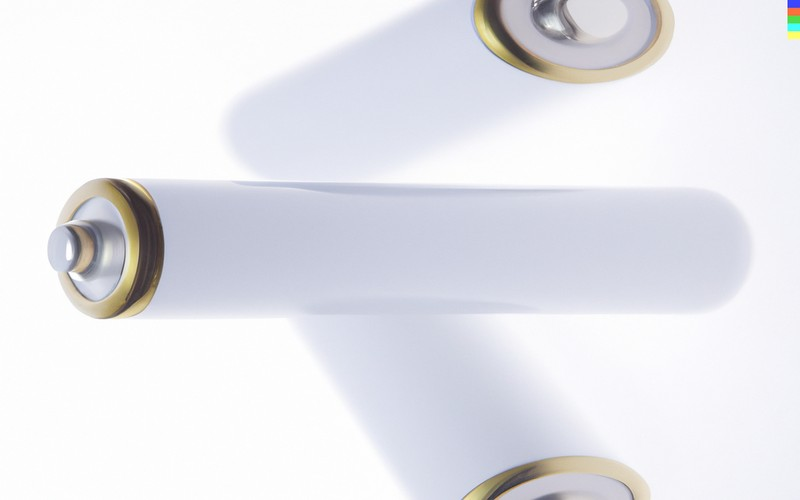Battery: (27, 163, 768, 344)
